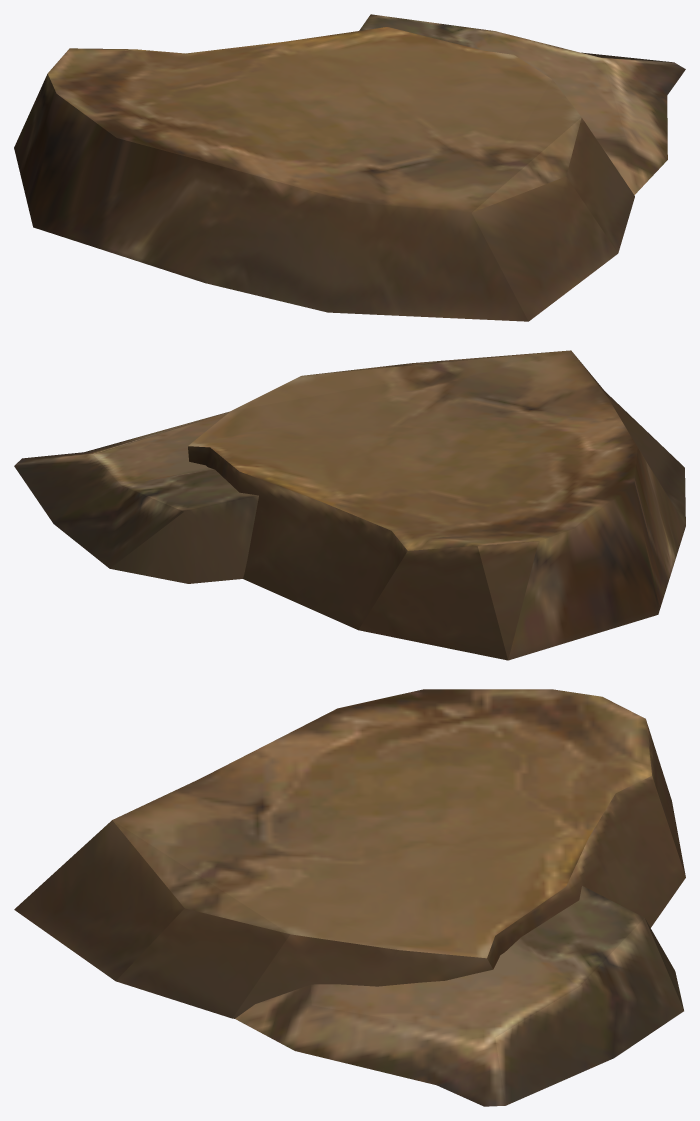
Rendered from D_shikuai005.fbx.
The picture shows the model from 3 angles, top to bottom: view 1: azimuth 30°, elevation 25°; view 2: azimuth 150°, elevation 25°; view 3: azimuth 270°, elevation 25°; orthographic projection. The views are drawn at different scales.
Visible parts, largest first — view 1: D_shikuai005; view 2: D_shikuai005; view 3: D_shikuai005.
Part boxes in pixels (bbox=[...]): D_shikuai005: bbox=[14, 14, 685, 321]; D_shikuai005: bbox=[14, 350, 685, 660]; D_shikuai005: bbox=[14, 689, 685, 1106].
Bounding box in the file's own units: 27 × 3.87 × 22.49.
